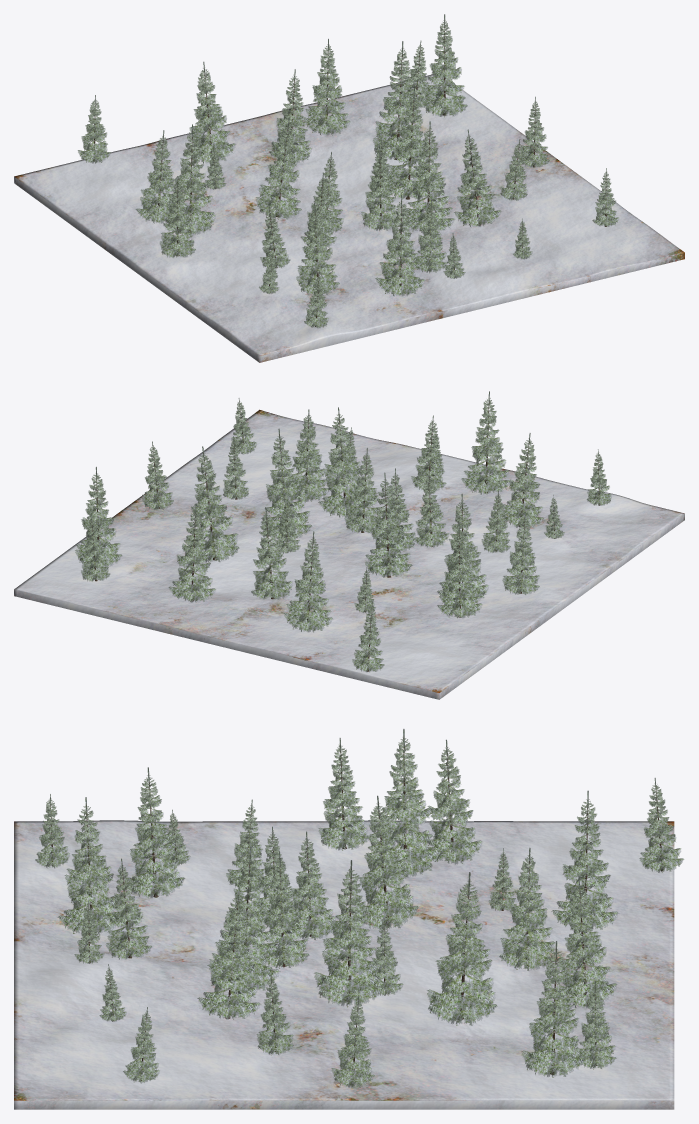
Rendered from winter_forest.glb.
3 renders of one model, top to bottom at view 1: azimuth 30°, elevation 25°; view 2: azimuth 150°, elevation 25°; view 3: azimuth 270°, elevation 25°, orthographic. The views are drawn at different scales.
Visible parts, largest first — view 1: Fur Pine Tree.Shape; view 2: Fur Pine Tree.Shape; view 3: Fur Pine Tree.Shape.
Part boxes in pixels (x1,y1,x2,y2): Fur Pine Tree.Shape: [14, 14, 684, 362]; Fur Pine Tree.Shape: [14, 391, 684, 699]; Fur Pine Tree.Shape: [14, 729, 683, 1109].
Bounding box in the file's own units: 30 × 8.2 × 30.48.
3 materials, 3 textured.
